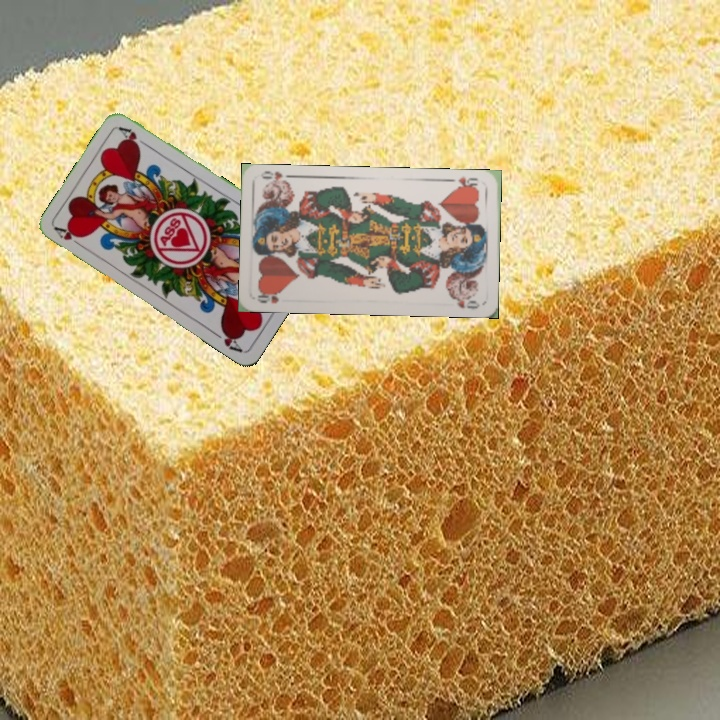HA: (51, 223, 87, 251)
HO: (448, 173, 482, 192), (254, 288, 283, 306)
